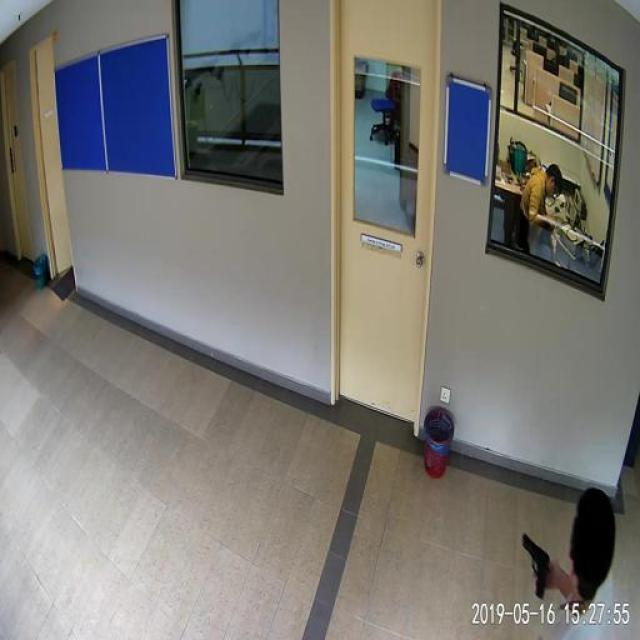Gun: (508, 526, 548, 601)
